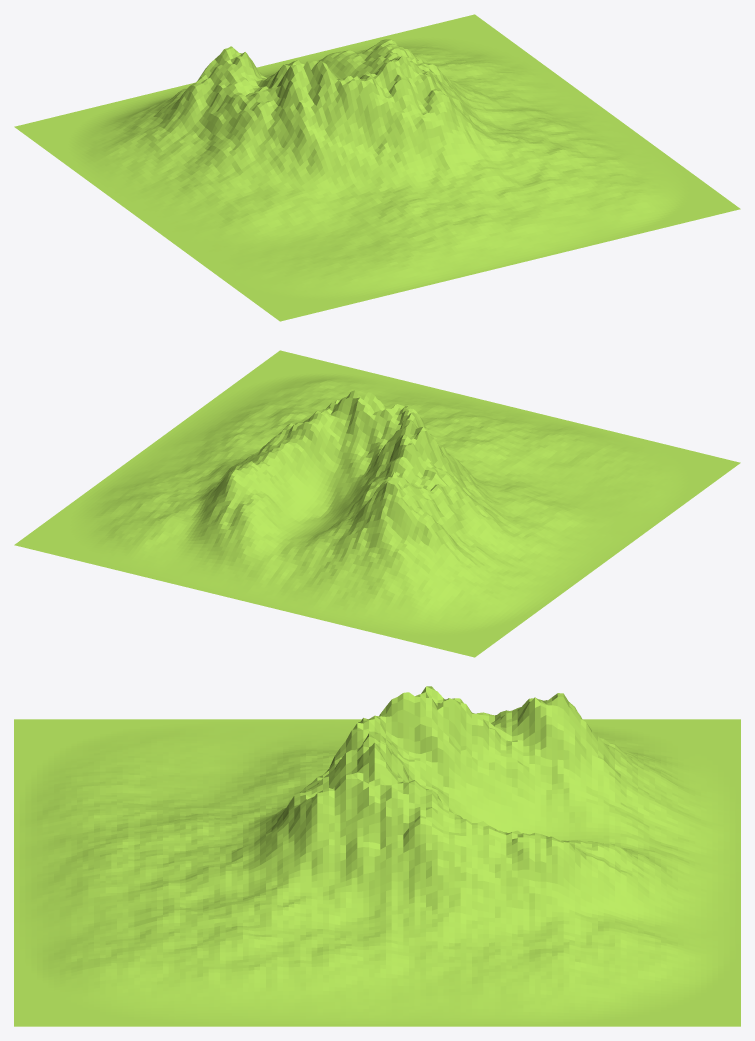
Rendered from tempisland.glb.
3 renders of one model, top to bottom at view 1: azimuth 30°, elevation 25°; view 2: azimuth 150°, elevation 25°; view 3: azimuth 270°, elevation 25°, orthographic. The views are drawn at different scales.
Visible parts, largest first — view 1: Landscape.003; view 2: Landscape.003; view 3: Landscape.003.
Boxes of the visible parts, bbox=[...] form: Landscape.003: bbox=[14, 14, 740, 321]; Landscape.003: bbox=[14, 350, 740, 657]; Landscape.003: bbox=[14, 686, 740, 1026].
Size of what is drawn, in the model's own units: 2 by 0.4572 by 2.
